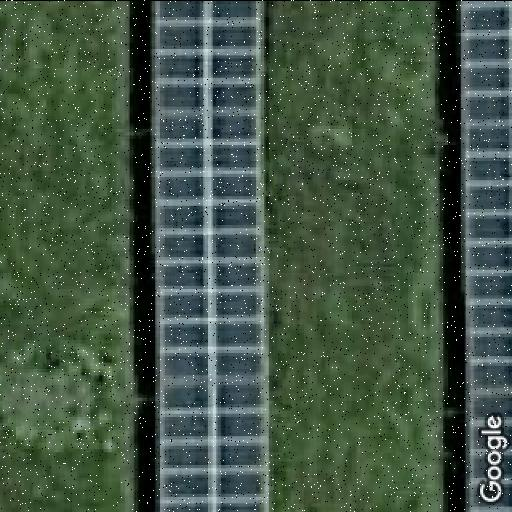solar-panel: (154, 0, 270, 512), (457, 0, 512, 512)
